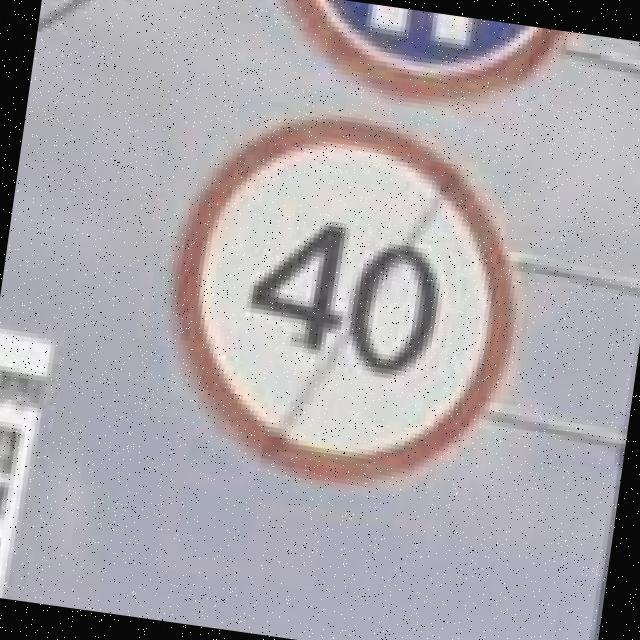Ograniczenie predkosci do 40: (150, 92, 540, 504)
